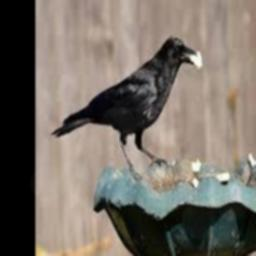Crow: (50, 35, 201, 179)
